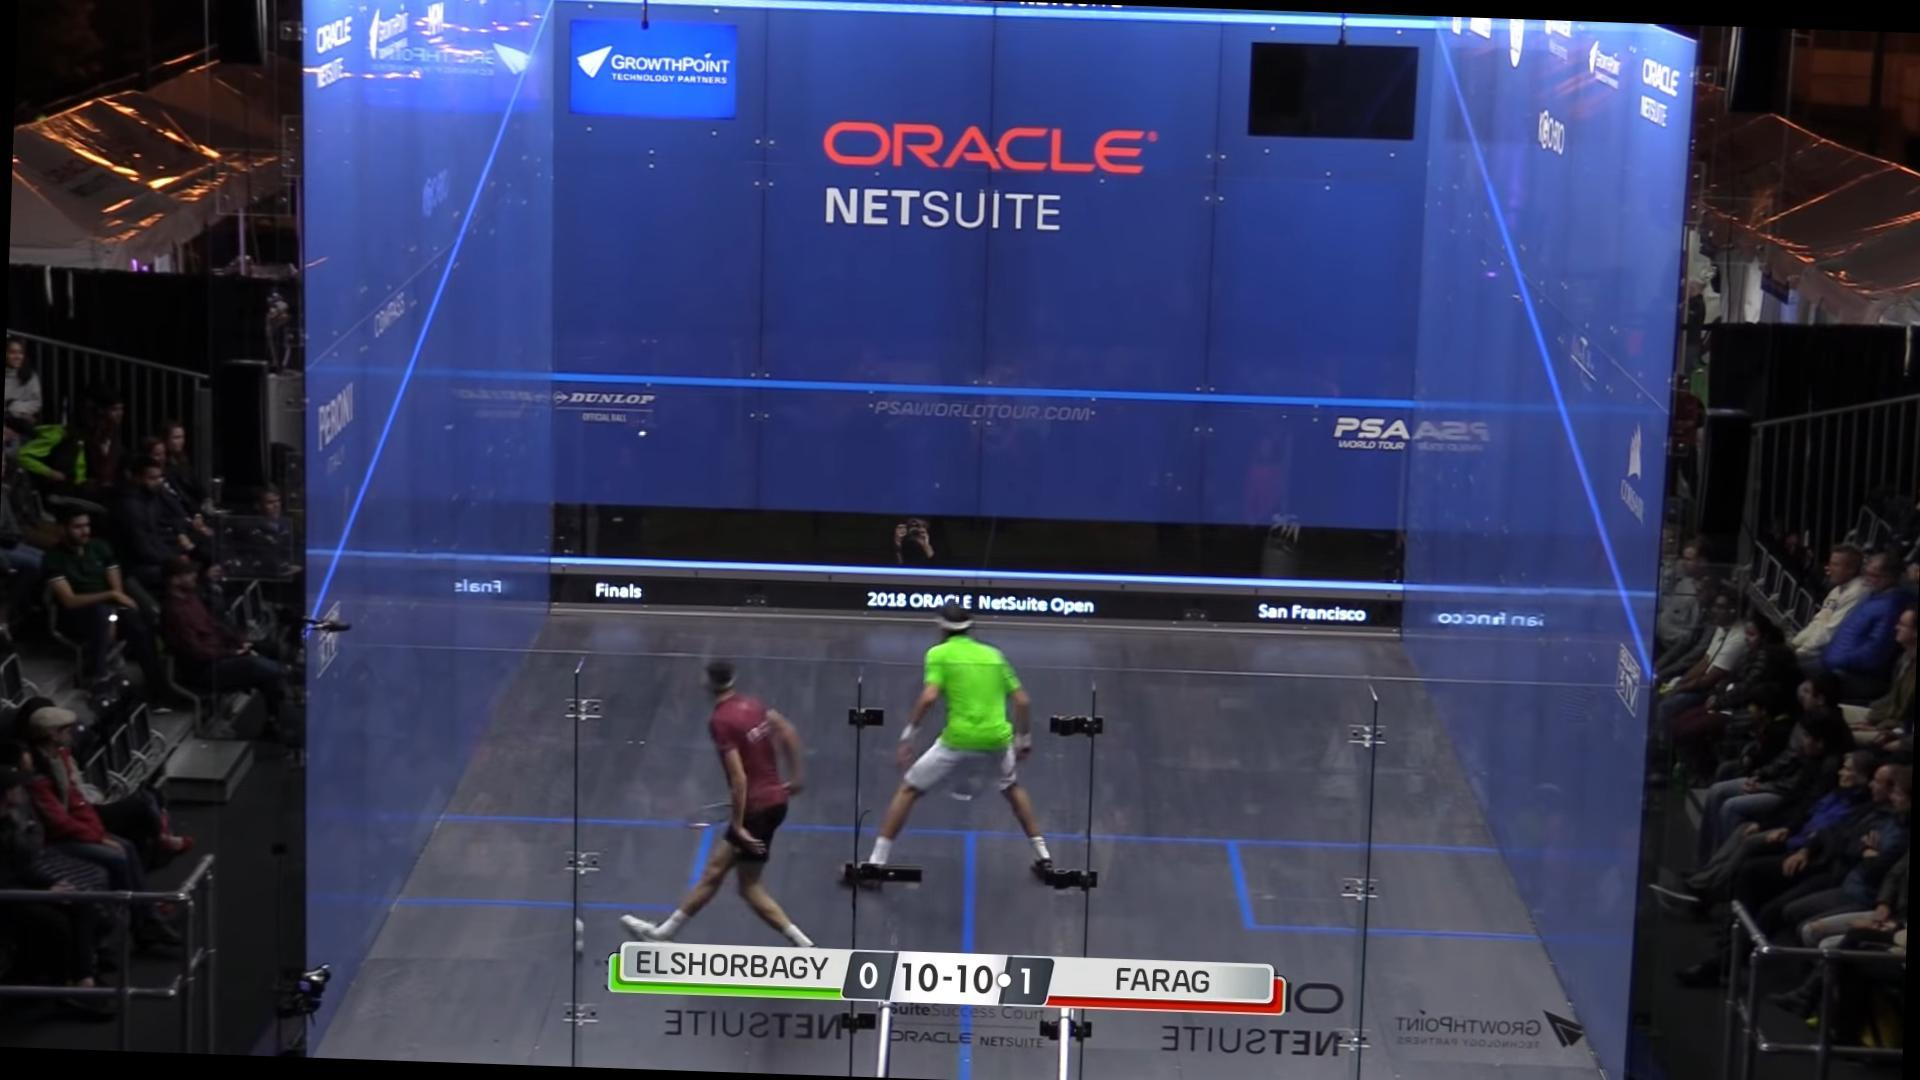Squash-Ball: (633, 425, 649, 444)
